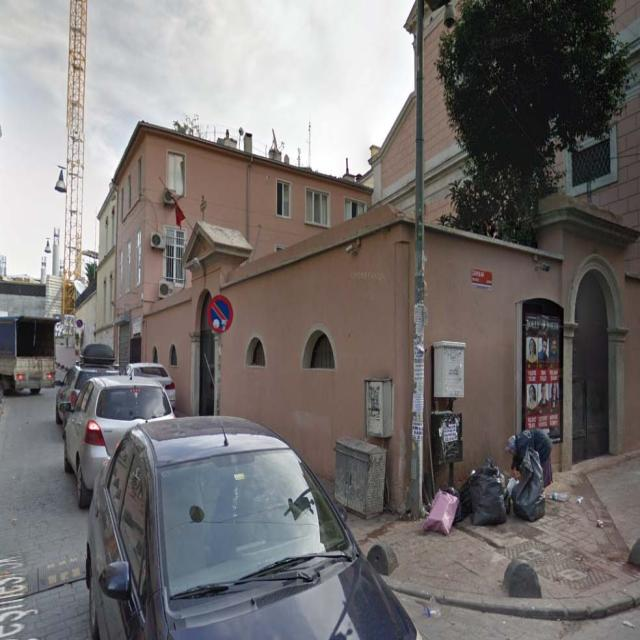parkyasak: (207, 296, 233, 334)
